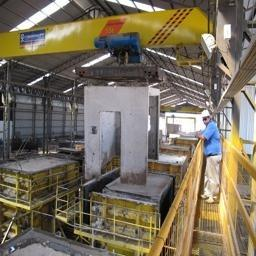hat: (196, 123, 233, 165), (200, 106, 217, 128)
